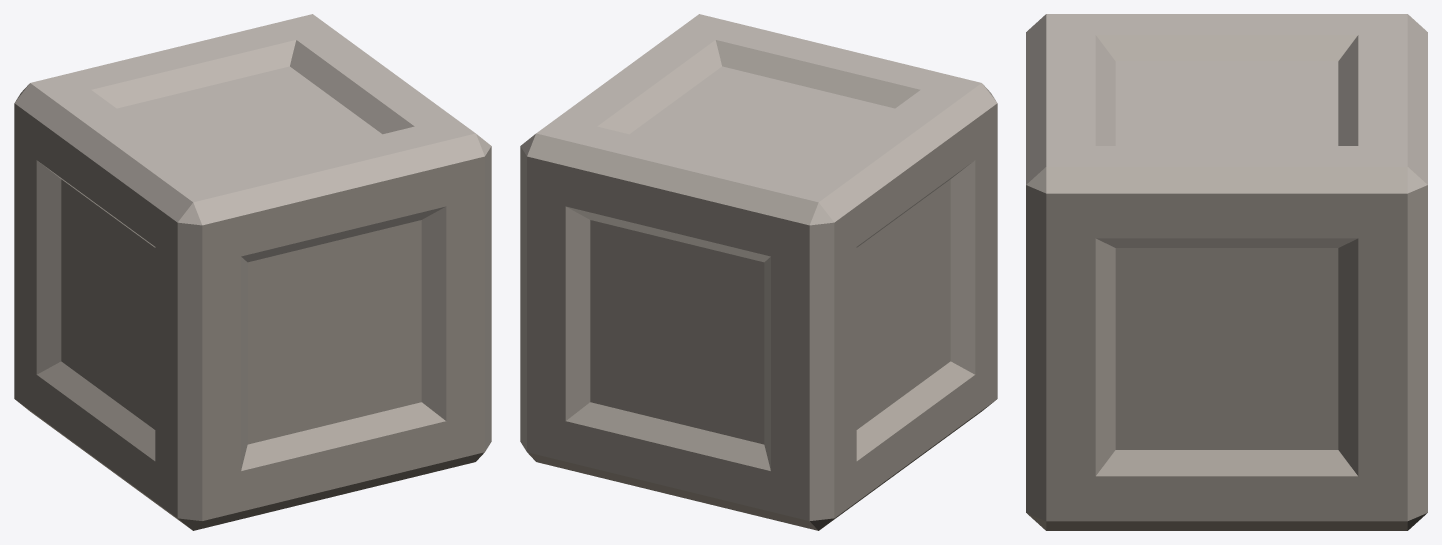
The model's file is m_deco_pillarSquareA.FBX.
The picture shows the model from 3 angles, left to right: view 1: azimuth 30°, elevation 25°; view 2: azimuth 150°, elevation 25°; view 3: azimuth 270°, elevation 25°; orthographic projection. The views are drawn at different scales.
Parts seen in each view (by area): view 1: m_deco_pillarSquareA; view 2: m_deco_pillarSquareA; view 3: m_deco_pillarSquareA.
Boxes of the visible parts, <box> form: m_deco_pillarSquareA: <box>14,14,491,530</box>; m_deco_pillarSquareA: <box>520,14,997,530</box>; m_deco_pillarSquareA: <box>1026,14,1427,530</box>.
Bounding box in the file's own units: 2 × 2 × 2.
